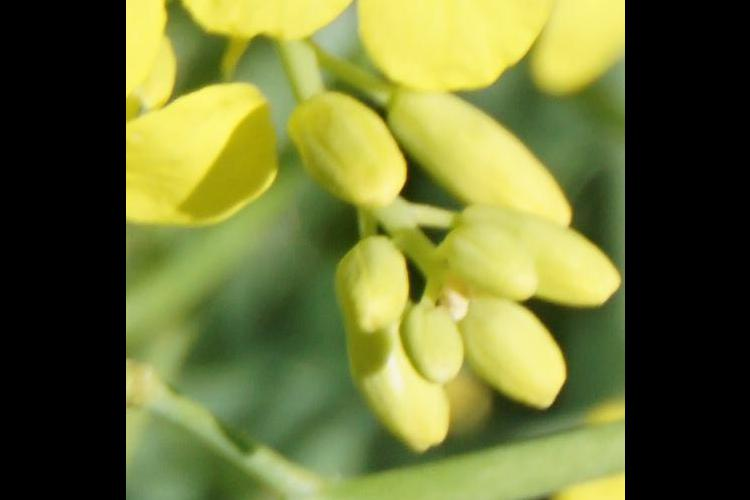bud: (392, 74, 577, 234), (447, 198, 622, 322), (280, 86, 416, 215), (331, 317, 449, 455), (454, 299, 570, 414), (433, 227, 541, 304), (340, 243, 406, 331), (405, 304, 468, 382)
yellow: (127, 1, 277, 244), (174, 1, 550, 91)
